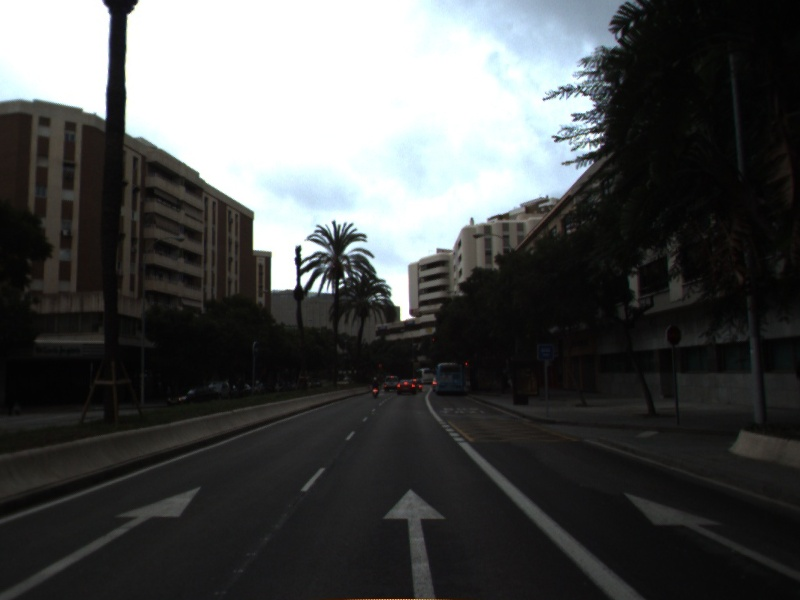STRAIGHT: (1, 482, 204, 600), (620, 487, 800, 583), (379, 484, 451, 600)
